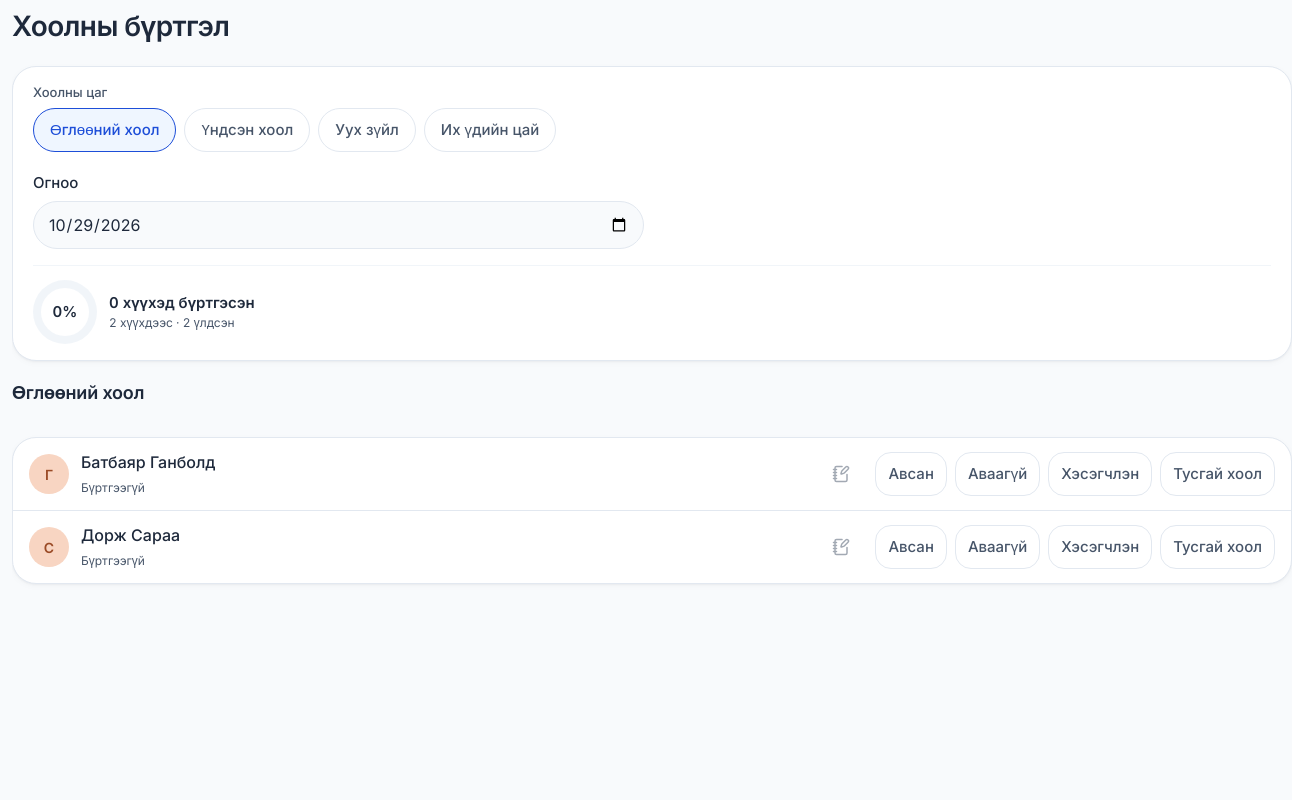
Scenario: хадгалаагүй өөрчлөлт › counts several pending rows
Expected: the text "Батбаяр Ганболд" is shown, [81,452,215,472]
Click the radio button labelled "Авсан" in the row of "Батбаяр Ганболд" at point(911, 474), box [875,452,947,496]
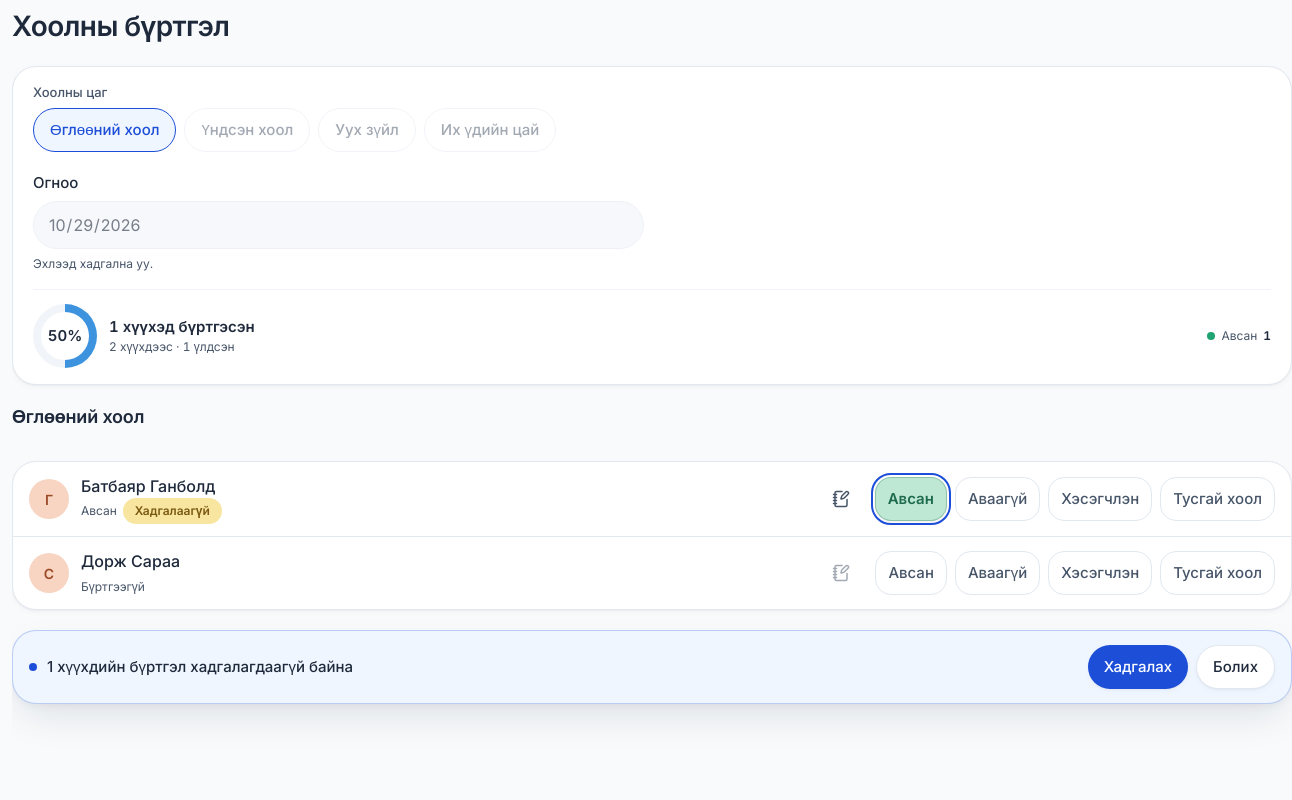
Click the radio button labelled "Аваагүй" in the row of "Дорж Сараа" at point(998, 573), box [955,551,1040,595]
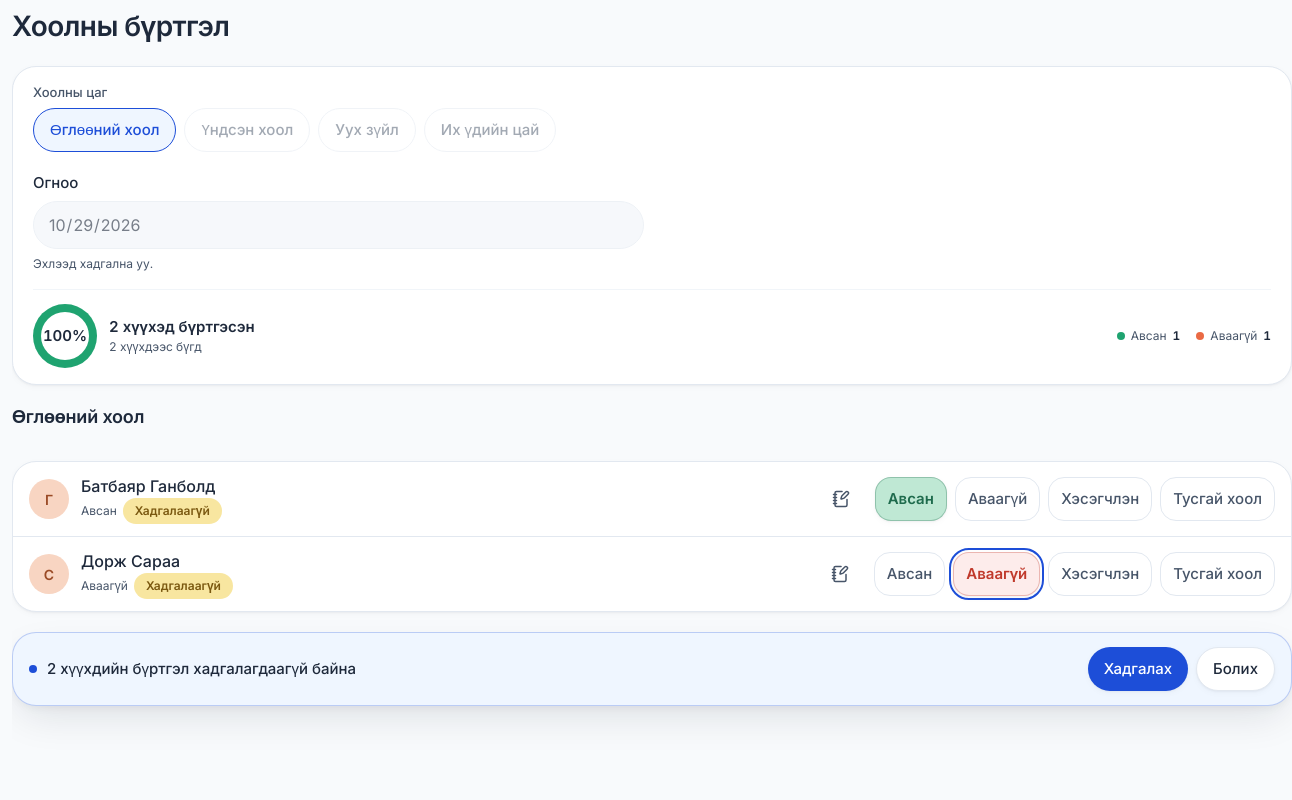
Expected: the text "2 хүүхдийн бүртгэл хадгалагдаагүй байна" is shown, [29,658,356,680]
